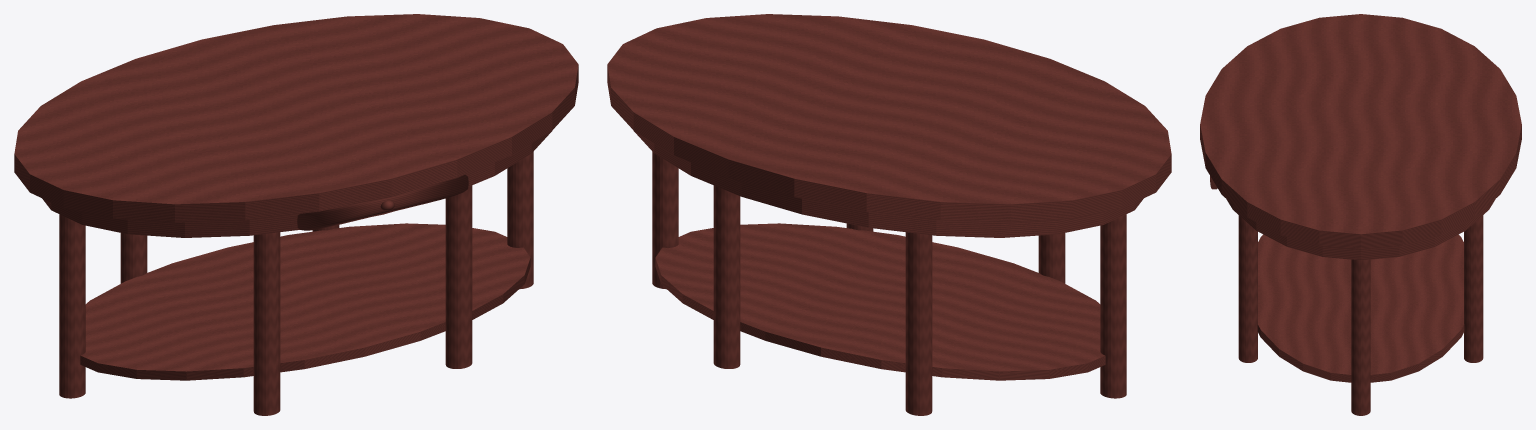
The picture shows the model from 3 angles, left to right: view 1: azimuth 30°, elevation 25°; view 2: azimuth 150°, elevation 25°; view 3: azimuth 270°, elevation 25°; orthographic projection. The views are drawn at different scales.
Visible parts, largest first — view 1: 1 tabletop, 5 lower_shelf, 8 leg_front_left, 9 leg_front_right, 6 leg_far_left, 2 apron, 3 drawer_front, 7 leg_far_right, 10 leg_back_left; view 2: 1 tabletop, 5 lower_shelf, 2 apron, 10 leg_back_left, 11 leg_back_right, 6 leg_far_left, 7 leg_far_right, 8 leg_front_left; view 3: 1 tabletop, 5 lower_shelf, 7 leg_far_right, 9 leg_front_right, 11 leg_back_right, 2 apron.
Part boxes in pixels (box(x1,y1,x2,y2)): 1 tabletop: box(14, 14, 578, 222); 5 lower_shelf: box(80, 223, 530, 380); 8 leg_front_left: box(253, 232, 280, 415); 9 leg_front_right: box(445, 185, 472, 368); 6 leg_far_left: box(59, 214, 85, 398); 2 apron: box(42, 130, 552, 237); 3 drawer_front: box(297, 174, 468, 230); 7 leg_far_right: box(507, 152, 533, 289); 10 leg_back_left: box(120, 233, 147, 283); 1 tabletop: box(607, 14, 1171, 222); 5 lower_shelf: box(655, 223, 1105, 380); 2 apron: box(633, 130, 1143, 237); 10 leg_back_left: box(905, 232, 932, 415); 11 leg_back_right: box(713, 185, 740, 368); 6 leg_far_left: box(1100, 214, 1126, 398); 7 leg_far_right: box(652, 152, 678, 289); 8 leg_front_left: box(1038, 233, 1065, 283); 1 tabletop: box(1200, 14, 1521, 249); 5 lower_shelf: box(1257, 234, 1464, 382); 7 leg_far_right: box(1351, 259, 1370, 415); 9 leg_front_right: box(1238, 215, 1257, 362); 11 leg_back_right: box(1464, 215, 1483, 362); 2 apron: box(1226, 199, 1495, 260).
Bounding box in the file's own units: 2.43 × 1 × 1.5.
Materials: 1 (1 with a texture image).
